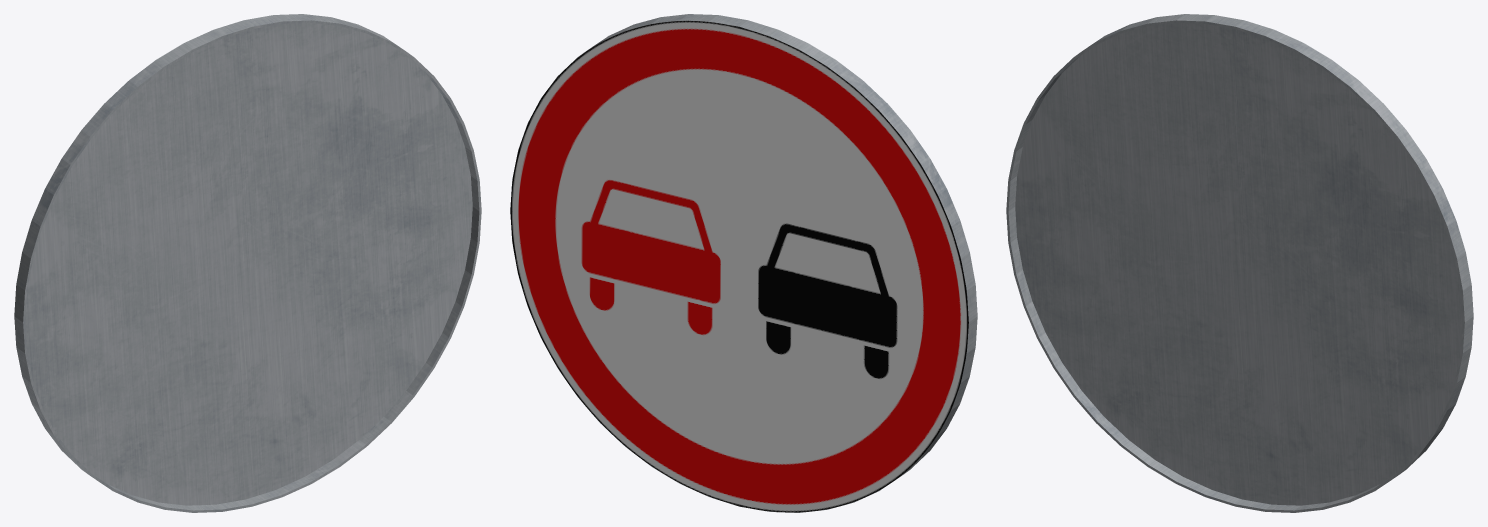
Rendered from End_of_no_overtaking_v2.fbx.
The picture shows the model from 3 angles, left to right: view 1: azimuth 30°, elevation 25°; view 2: azimuth 150°, elevation 25°; view 3: azimuth 330°, elevation 25°; orthographic projection.
Parts seen in each view (by area): view 1: End of no overtaking v2; view 2: End of no overtaking v2; view 3: End of no overtaking v2.
Boxes of the visible parts, left/top/right/bottom form: End of no overtaking v2: left=14, top=14, right=481, bottom=512; End of no overtaking v2: left=510, top=14, right=977, bottom=512; End of no overtaking v2: left=1006, top=14, right=1473, bottom=512.
Bounding box in the file's own units: 0.02 × 0.6 × 0.6.
